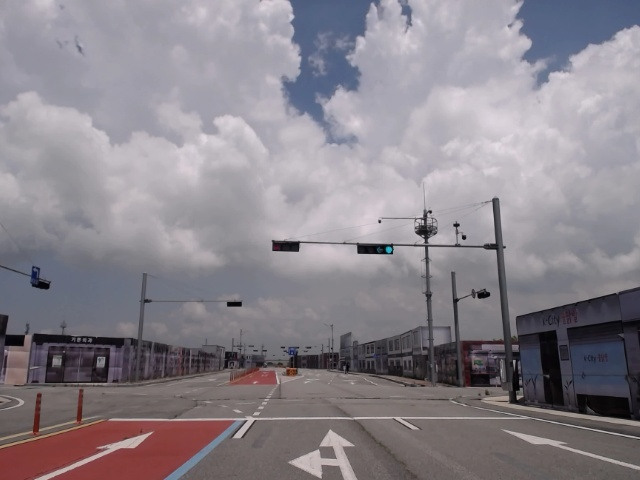all_green_4: (356, 243, 394, 254)
